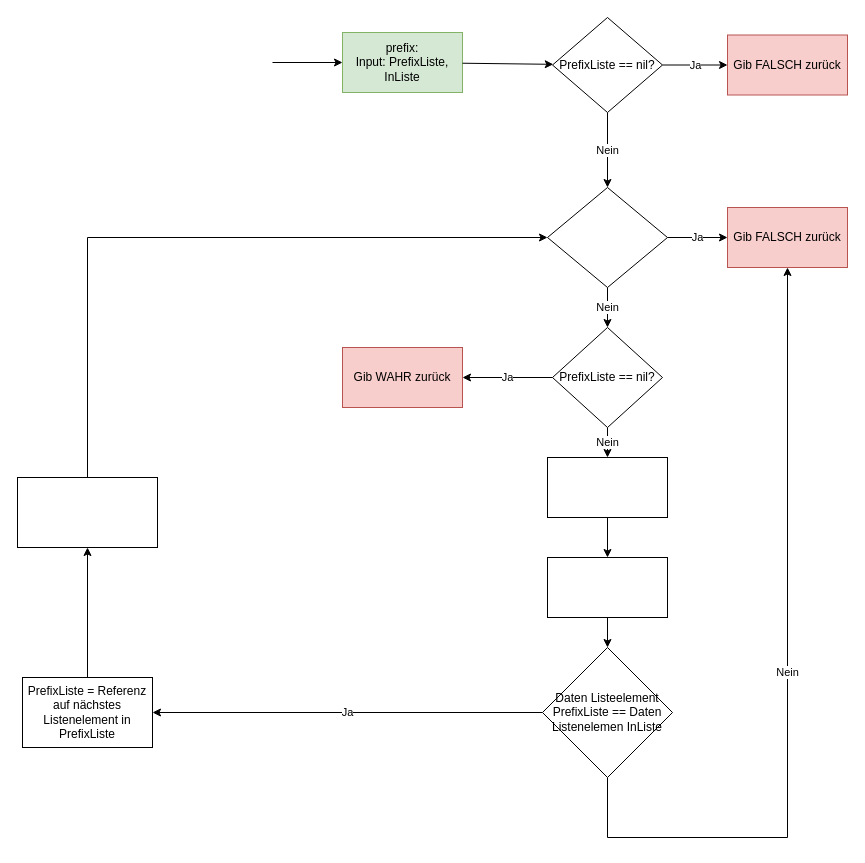
The diagram is 865 pixels wide and 863 high, and some of its shapes have lost their labels. Each missing label, with the box of its shape:
Hole Daten des Listenelements von InListe: (546, 456, 668, 518)
Hole Daten des Listenelements von PrefixListe: (546, 556, 668, 618)
InListe = Referefenz auf nächstes Listenelement von InListe: (16, 476, 158, 548)
InListe == nil ?: (546, 186, 668, 288)
